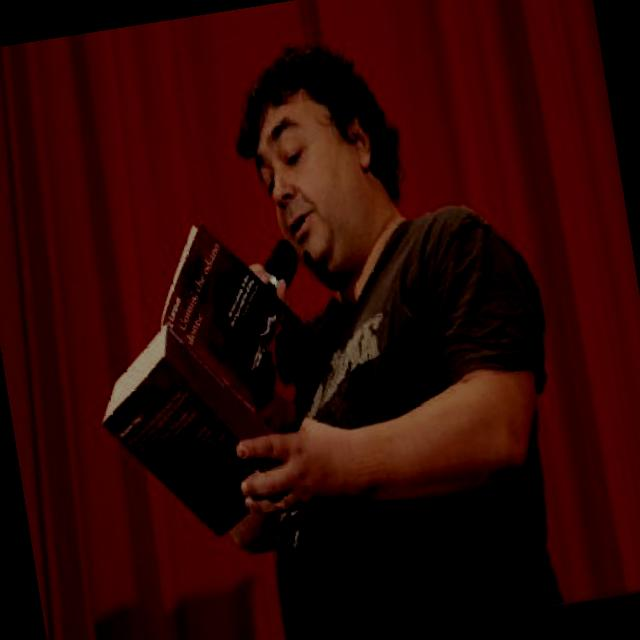Person: (120, 21, 564, 636)
